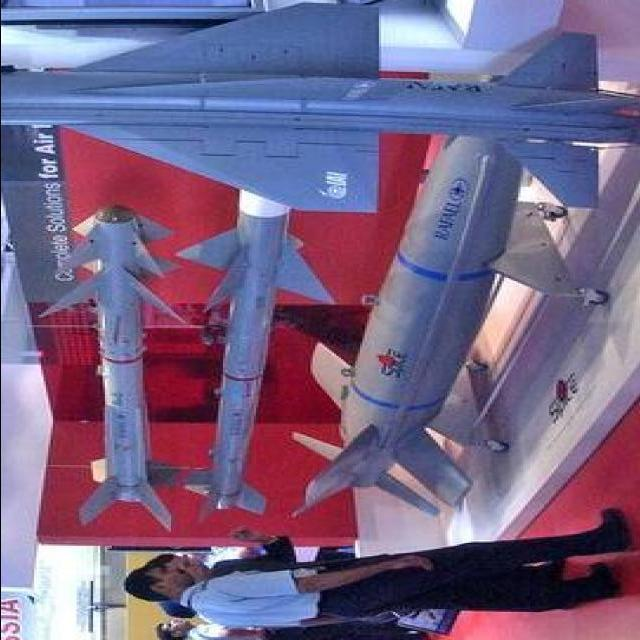missile: (62, 198, 184, 529), (202, 182, 316, 515)
